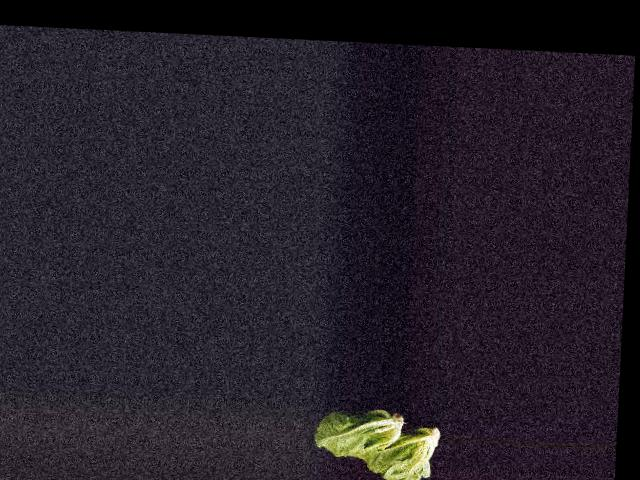lettuce: (350, 414, 441, 480)
